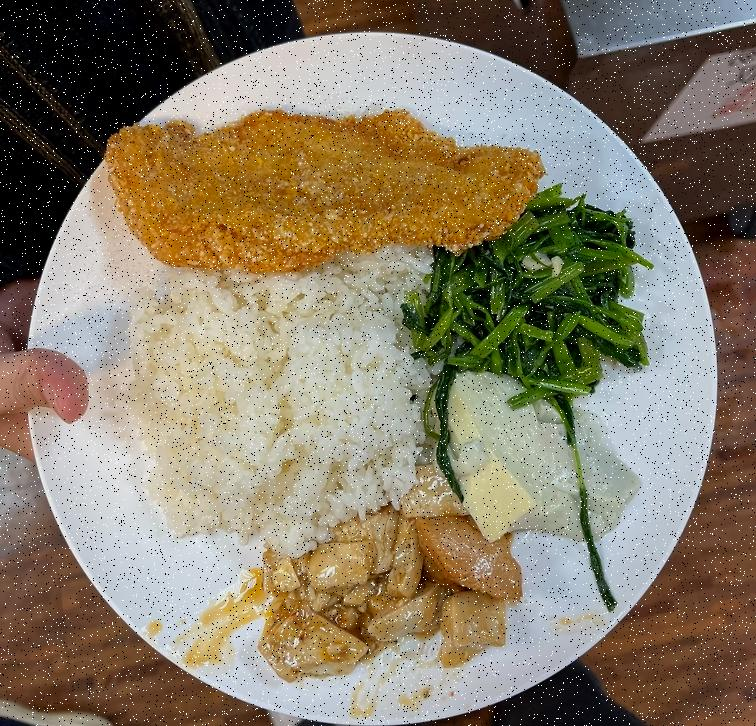big fried chicken leg: (7, 26, 720, 720)
big herbal chicken leg: (112, 254, 426, 537)
braised fish fillet: (410, 194, 646, 396), (260, 512, 524, 685), (430, 368, 644, 544)
braised pork: (97, 106, 556, 280)
